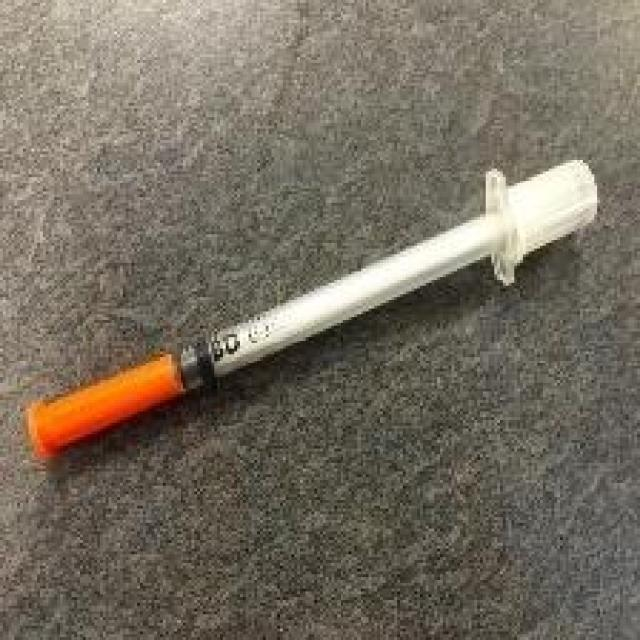syringe: (41, 169, 613, 469)
